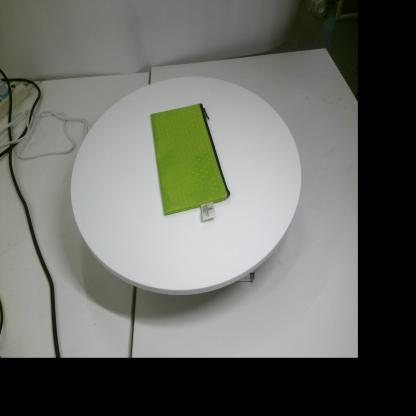Stationery: (150, 103, 230, 221)
